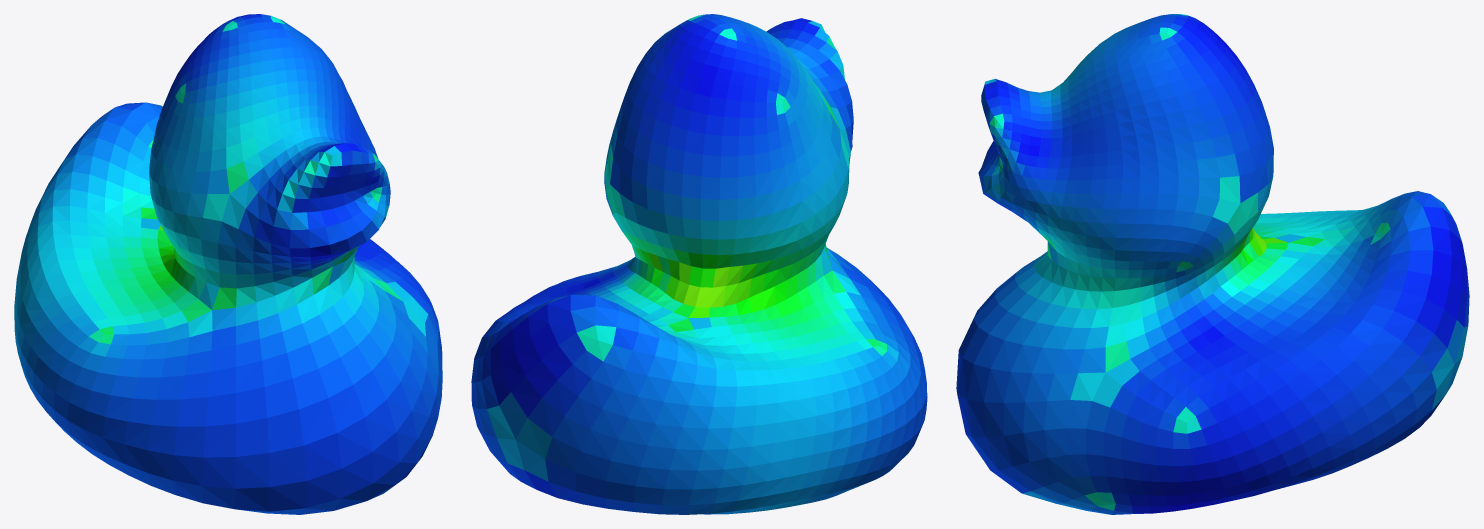
File: duck_quad1_opt_quality.obj
The picture shows the model from 3 angles, left to right: view 1: azimuth 30°, elevation 25°; view 2: azimuth 150°, elevation 25°; view 3: azimuth 270°, elevation 25°; orthographic projection. The views are drawn at different scales.
Size of the model in its own units: 70.19 by 78.71 by 81.76.
